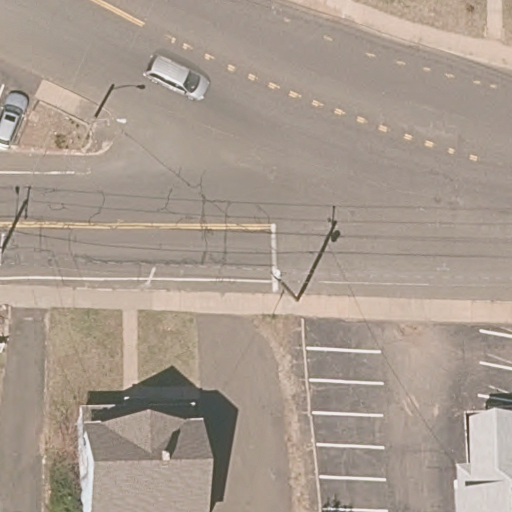DT: (266, 264, 302, 302)
